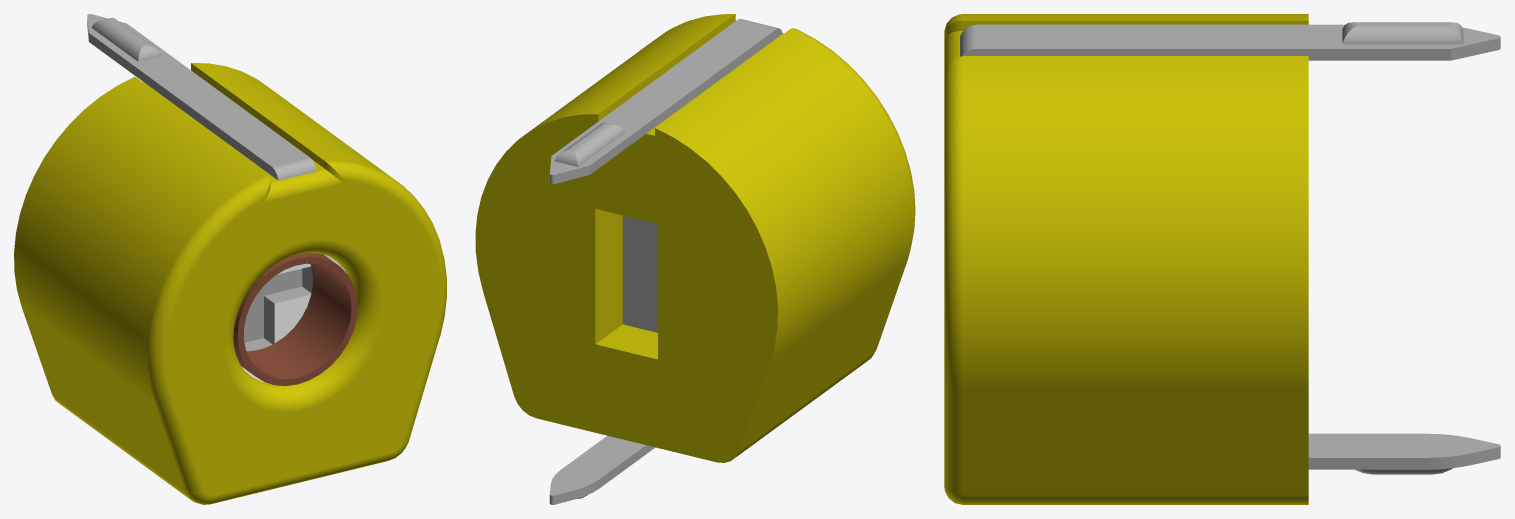
The model's file is Trimmer Cap - Yellow - 40pf.obj.
3 views of the same model, side by side, from view 1: azimuth 30°, elevation 25°; view 2: azimuth 150°, elevation 25°; view 3: azimuth 270°, elevation 25° (orthographic). The views are drawn at different scales.
Parts seen in each view (by area): view 1: Solid1; view 2: Solid1; view 3: Solid1.
Part boxes in pixels (bbox=[...]): Solid1: bbox=[14, 14, 446, 504]; Solid1: bbox=[475, 14, 915, 504]; Solid1: bbox=[944, 14, 1500, 504].
Bounding box in the file's own units: 6.09 × 6.76 × 7.61.
